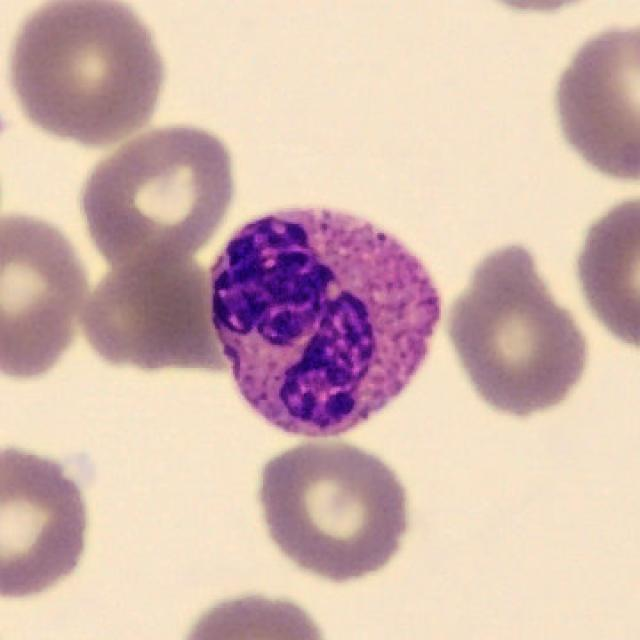Neutrofilo segmentado: (208, 206, 443, 441)
